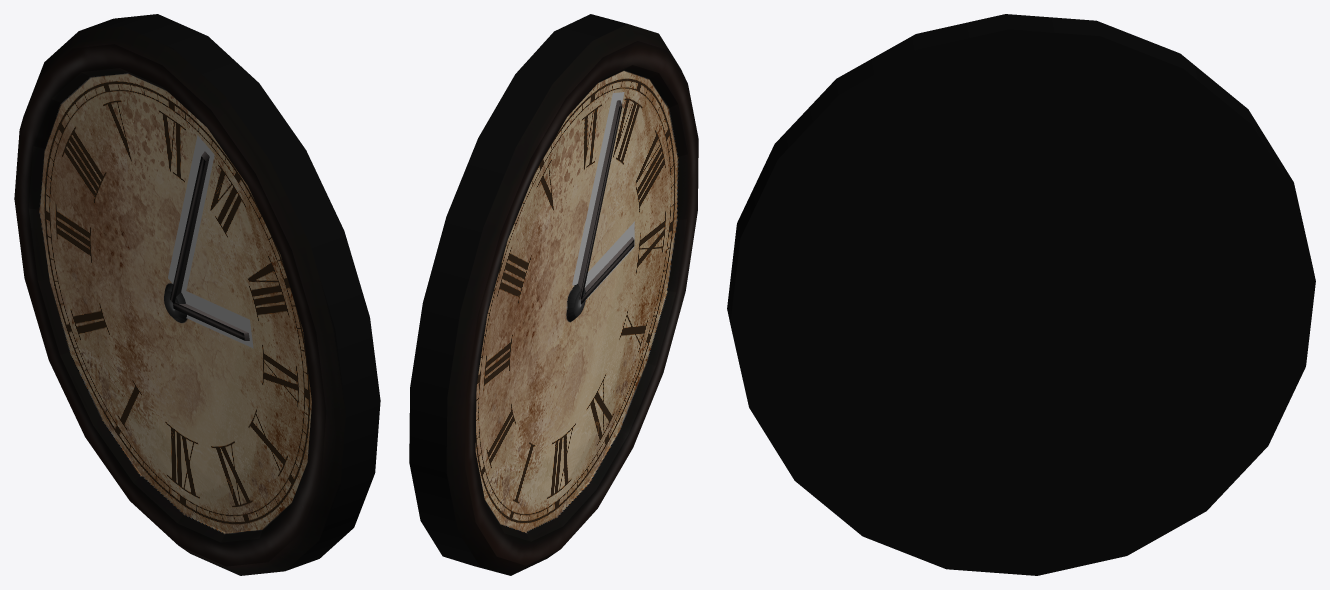
The model's file is Clock.fbx.
The picture shows the model from 3 angles, left to right: view 1: azimuth 30°, elevation 25°; view 2: azimuth 150°, elevation 25°; view 3: azimuth 270°, elevation 25°; orthographic projection. The views are drawn at different scales.
Parts seen in each view (by area): view 1: clock:pCylinder2; view 2: clock:pCylinder2; view 3: clock:pCylinder2.
Boxes of the visible parts, x1,y1,x2,y2 form: clock:pCylinder2: [14, 14, 380, 575]; clock:pCylinder2: [409, 14, 698, 575]; clock:pCylinder2: [727, 14, 1315, 575].
Bounding box in the file's own units: 0.3891 × 2 × 2.
